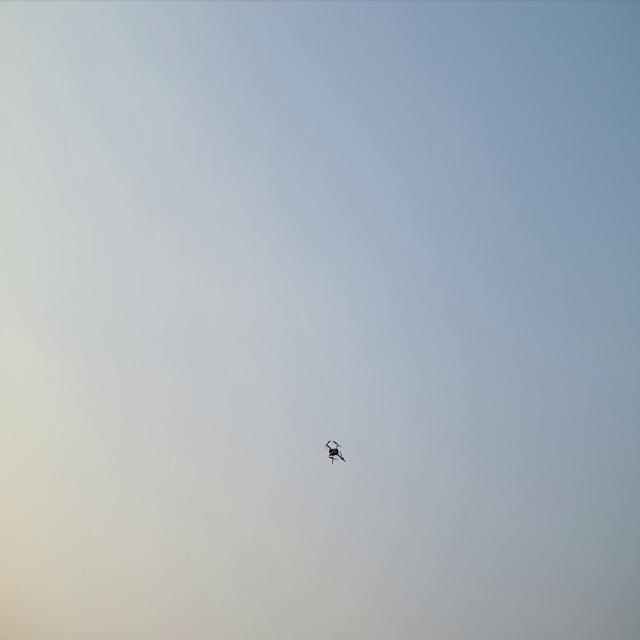UAV: (324, 437, 346, 466)
